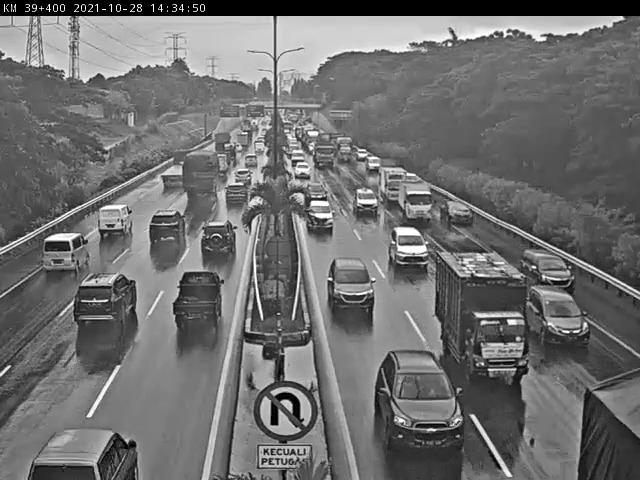big truck: (182, 152, 229, 212), (314, 136, 336, 169)
car: (365, 346, 471, 464), (29, 418, 166, 480), (168, 271, 236, 334), (73, 267, 138, 332), (529, 291, 592, 355), (321, 255, 386, 317), (521, 242, 584, 292), (388, 227, 435, 279), (42, 231, 93, 278), (197, 217, 242, 261), (91, 201, 137, 238), (149, 210, 188, 250), (302, 200, 343, 237), (351, 184, 387, 222), (441, 198, 480, 231), (225, 178, 254, 218), (290, 160, 315, 184), (305, 183, 329, 204), (233, 167, 255, 188), (243, 152, 264, 171), (365, 154, 384, 174), (354, 144, 368, 162)
small truck: (434, 252, 533, 388), (575, 363, 640, 480), (577, 363, 640, 480), (398, 175, 436, 228), (158, 148, 187, 190), (381, 169, 407, 203)
